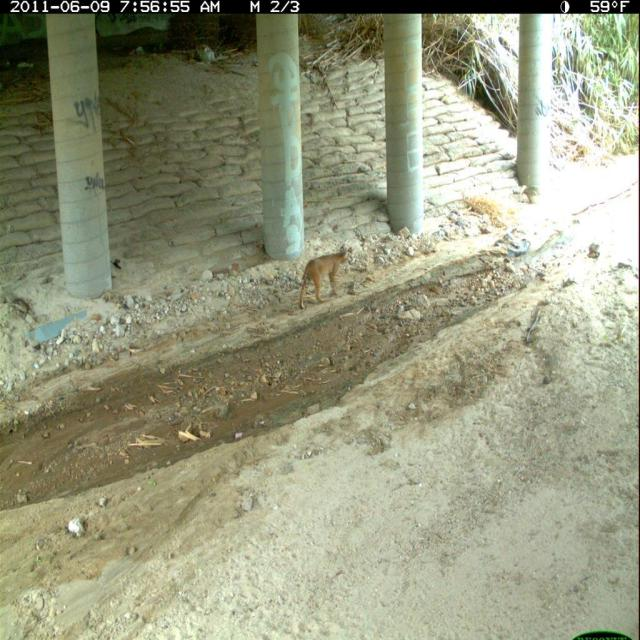bobcat: (296, 244, 352, 314)
